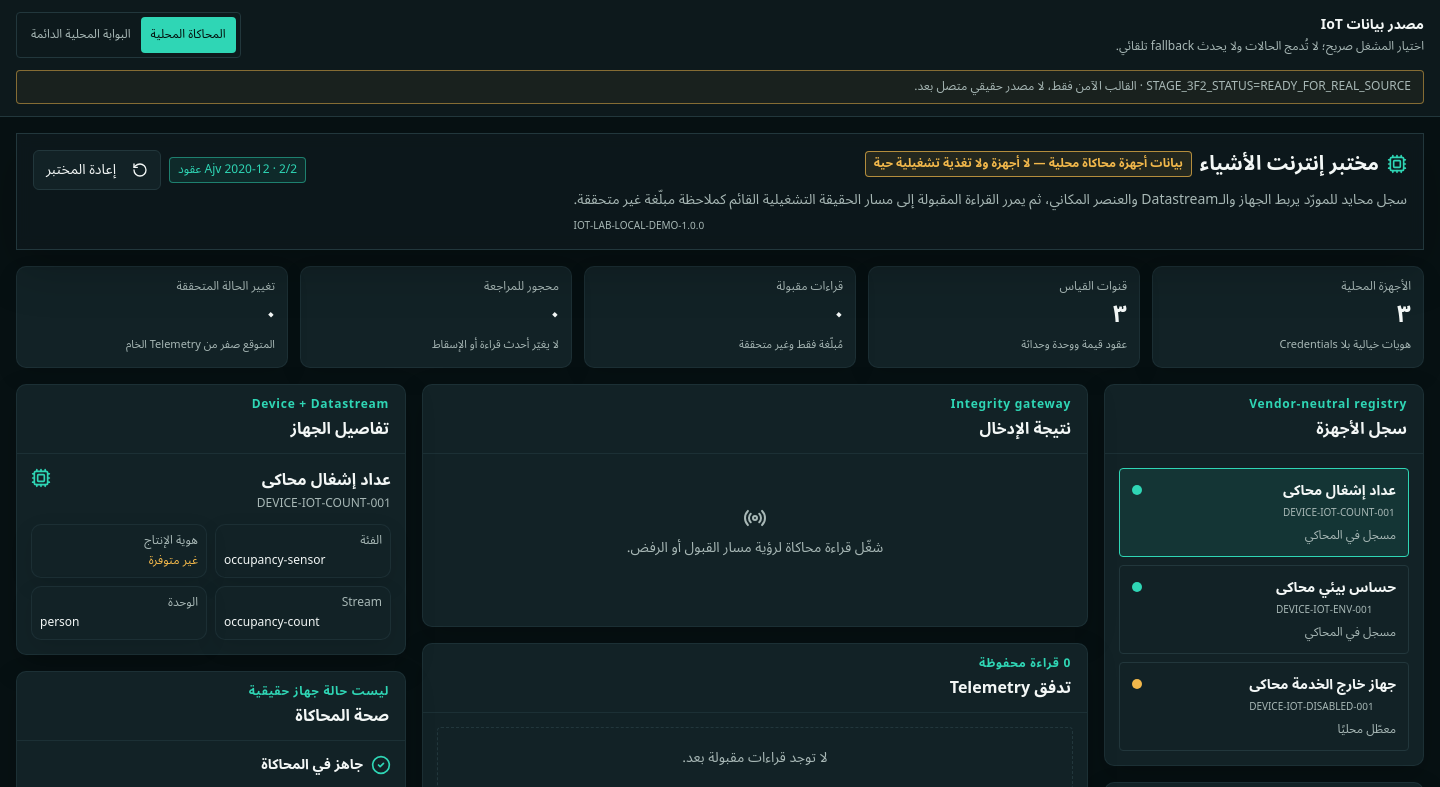
Test: Stage 3F.1 IoT source selection › keeps the selected local gateway isolated when it becomes unavailable and never falls back to simulation
Click the button with test id "iot-source-gateway" at (81, 35), box [21,17,141,53]
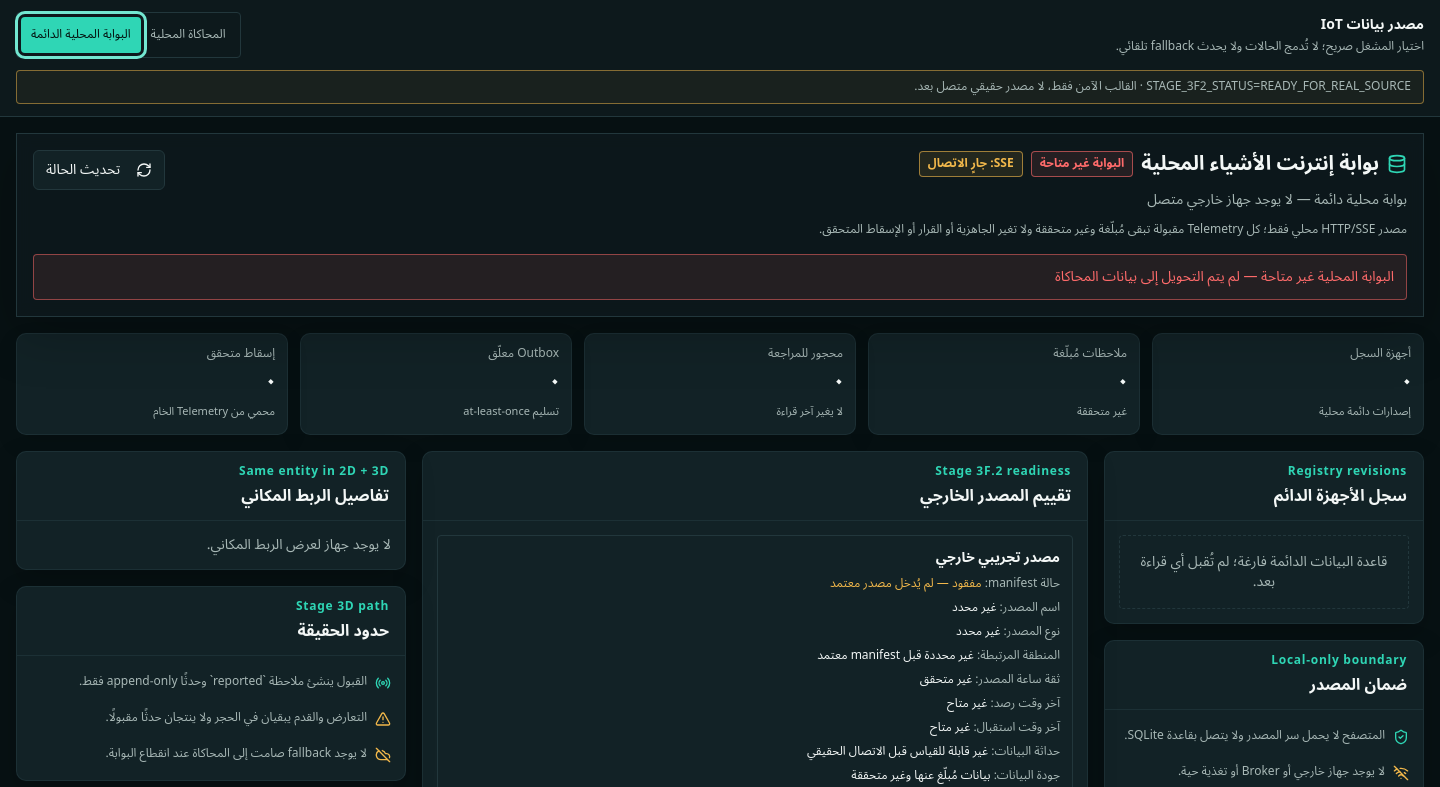
Result: the text with test id "iot-gateway-unavailable" reads "البوابة المحلية غير متاحة — لم يتم التحويل إلى بيانات المحاكاة" at [1055,262,1394,291]
Result: the text with test id "iot-local-only-label" is gone
